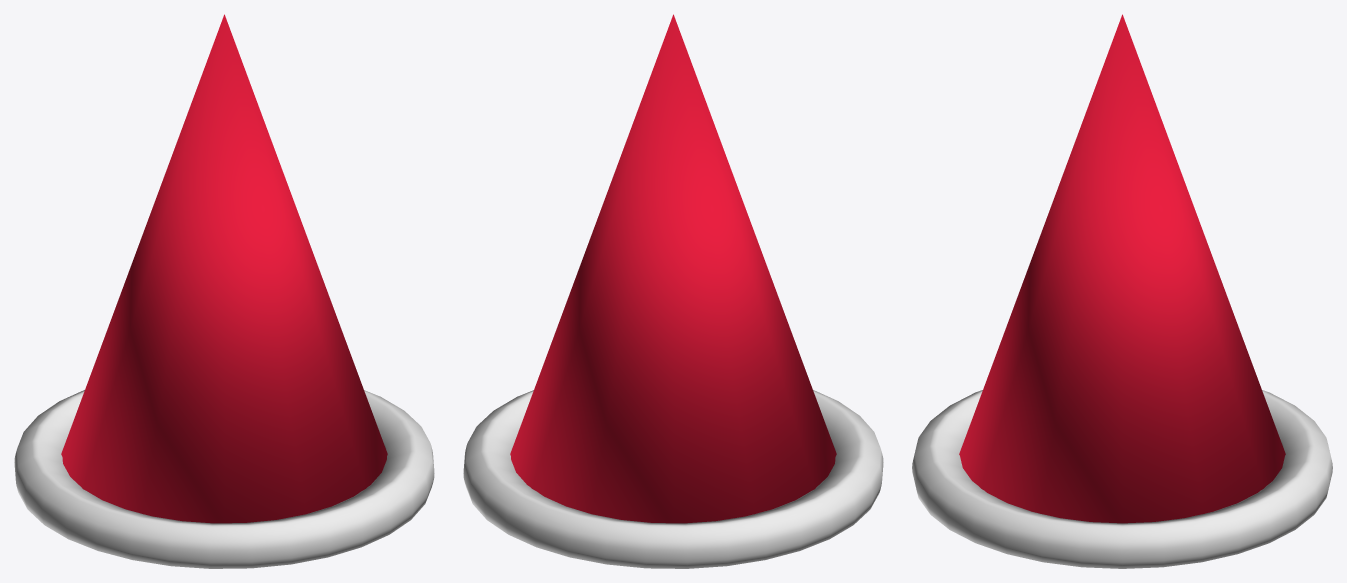
File: Obstacle1.fbx
The picture shows the model from 3 angles, left to right: view 1: azimuth 30°, elevation 25°; view 2: azimuth 150°, elevation 25°; view 3: azimuth 270°, elevation 25°; orthographic projection.
Visible parts, largest first — view 1: Cone, Circle; view 2: Cone, Circle; view 3: Cone, Circle.
Part boxes in pixels (x1,y1,x2,y2): Cone: (61, 14, 387, 523); Circle: (14, 390, 434, 568); Cone: (510, 14, 836, 523); Circle: (463, 390, 883, 568); Cone: (959, 14, 1285, 523); Circle: (912, 390, 1332, 568).
Size of the model in its own units: 202 by 250 by 202.
